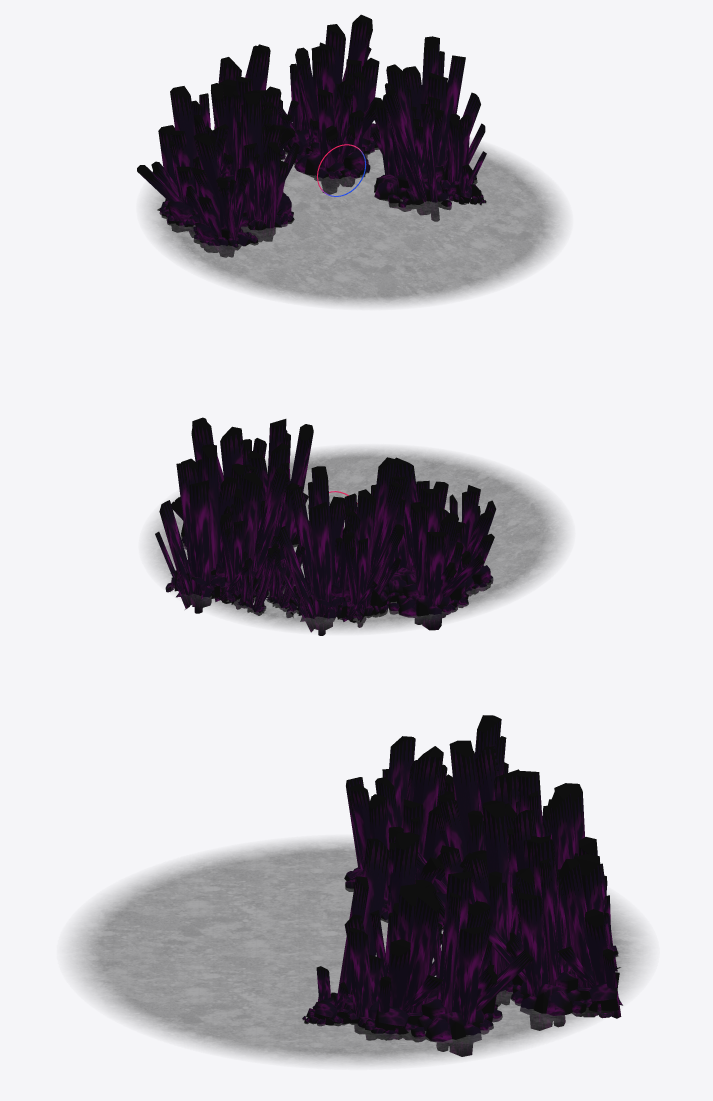
Rendered from stage.glb.
The picture shows the model from 3 angles, top to bottom: view 1: azimuth 30°, elevation 25°; view 2: azimuth 150°, elevation 25°; view 3: azimuth 270°, elevation 25°; orthographic projection. The views are drawn at different scales.
Parts seen in each view (by area): view 1: Plane_Material_0; view 2: Plane_Material_0; view 3: Plane_Material_0.
Boxes of the visible parts, left/top/right/bottom form: Plane_Material_0: left=137, top=14, right=564, bottom=306; Plane_Material_0: left=147, top=417, right=566, bottom=635; Plane_Material_0: left=68, top=715, right=647, bottom=1065.
Size of the model in its own units: 30.56 by 10.19 by 33.01.
3 materials, 3 textured.
